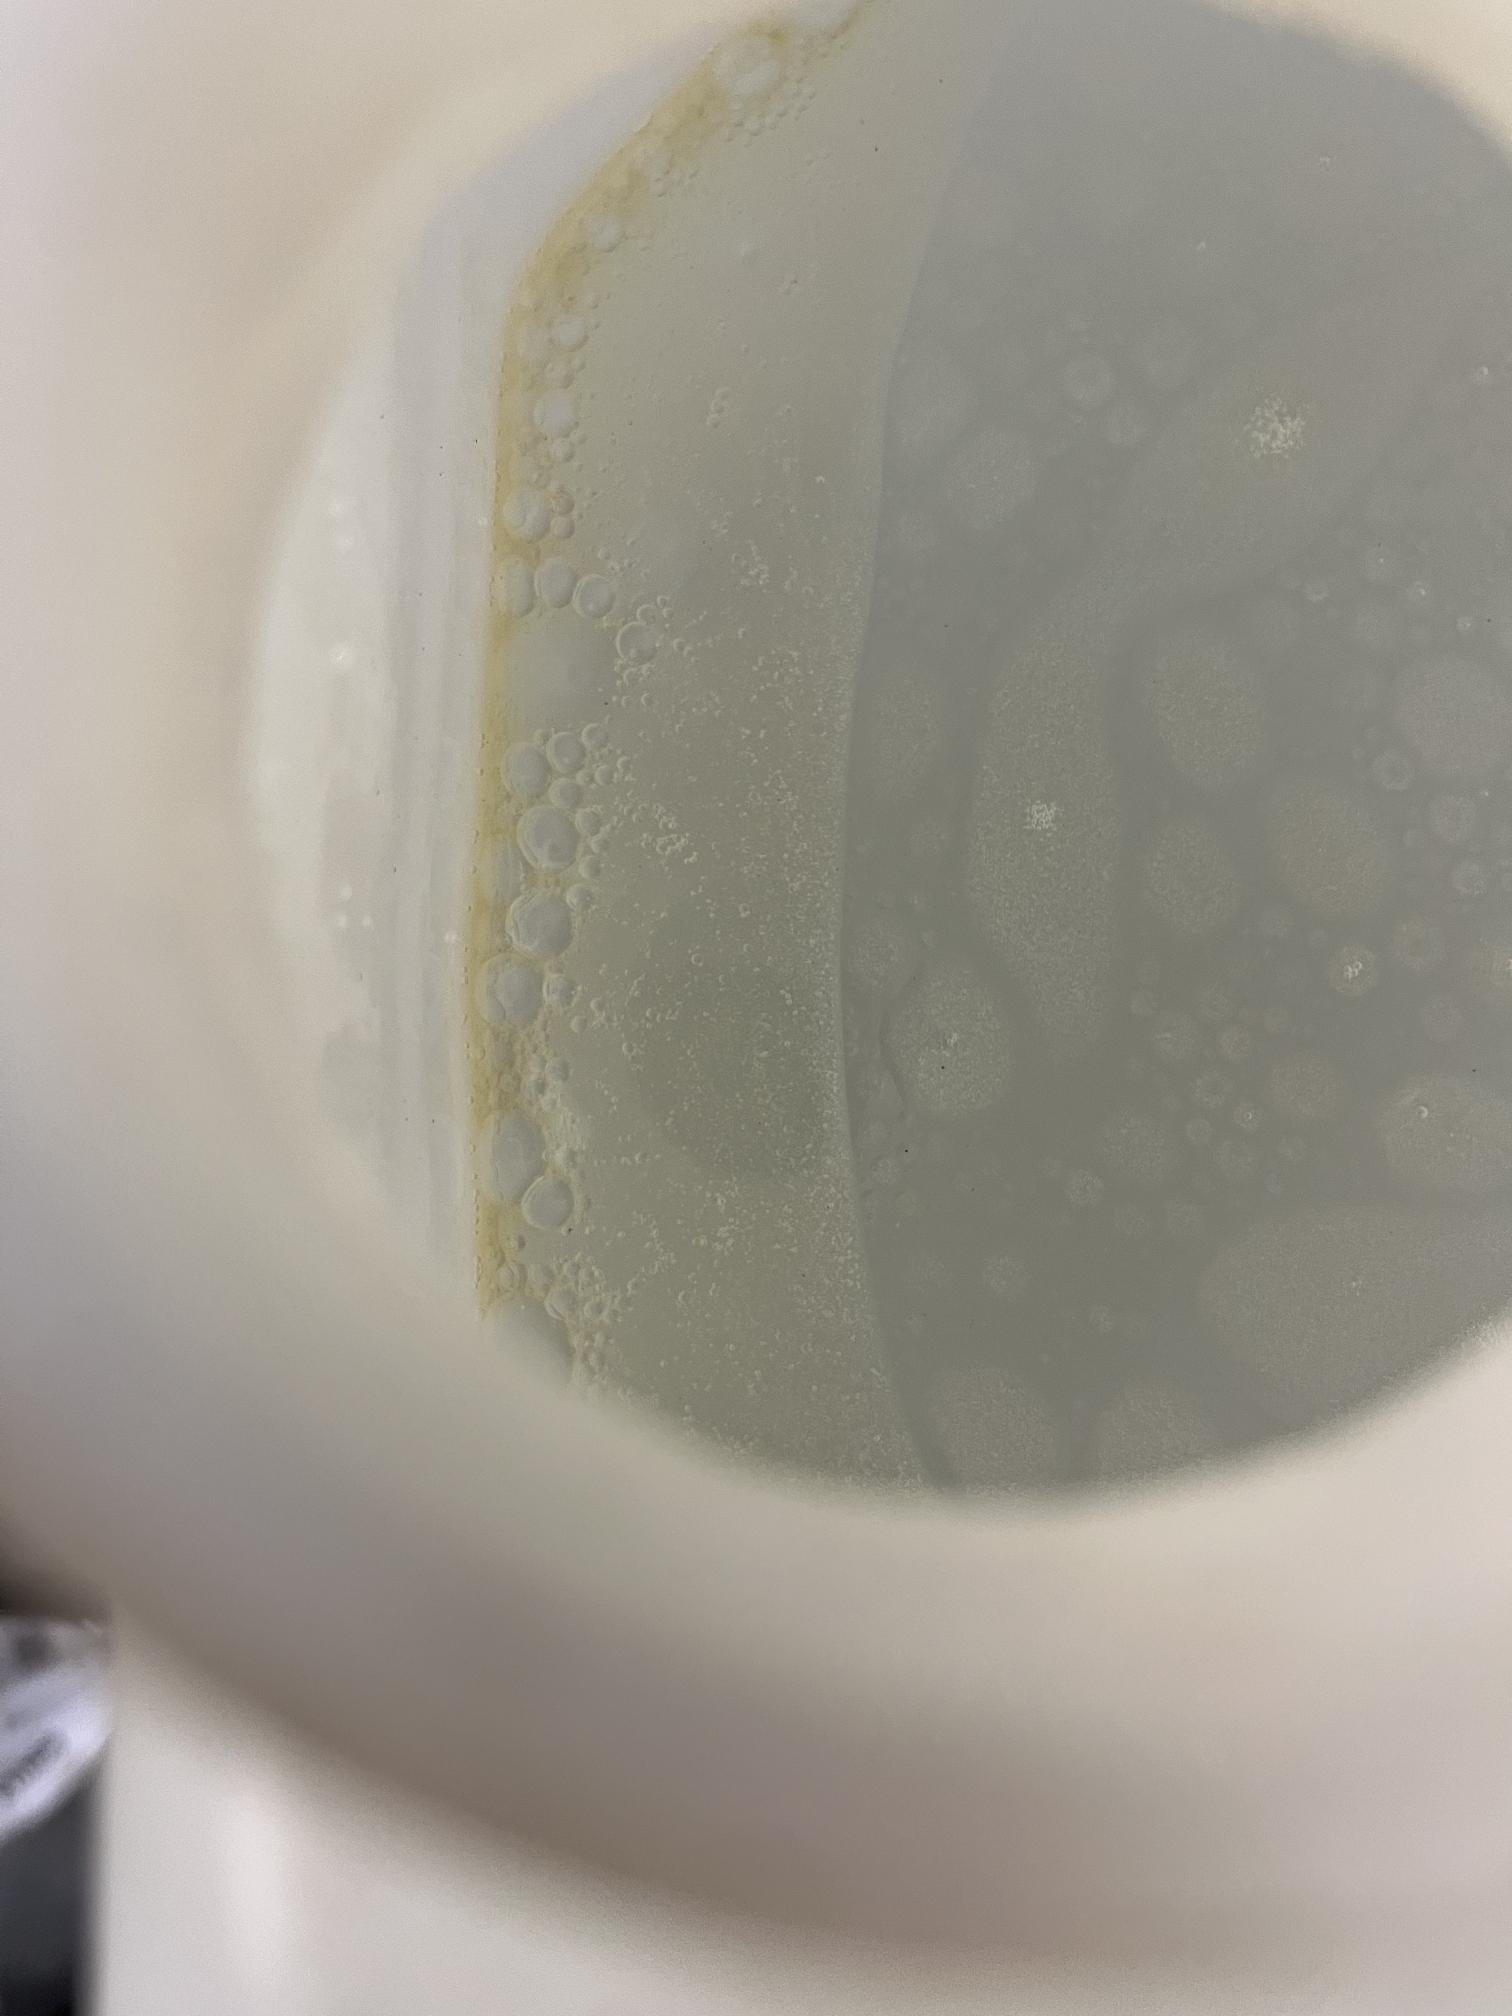Borda de Oleo - - 30ml: (467, 0, 1013, 1486)
